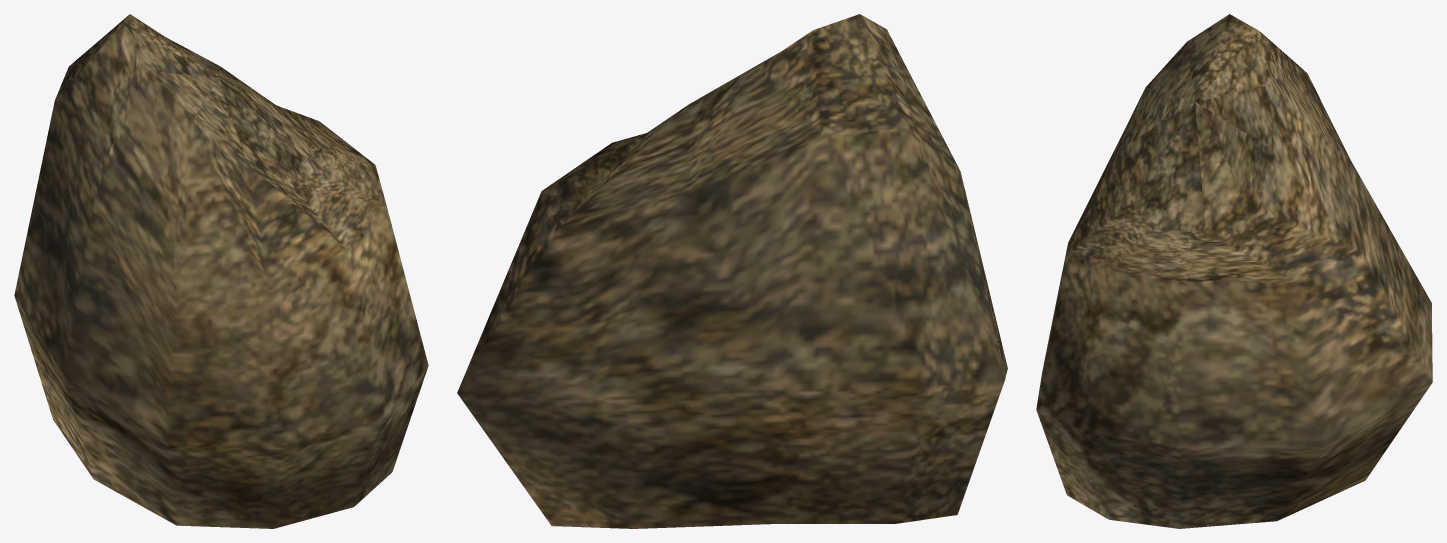
File: CH09_SMAUG_PLAYSURFACE_LONELYMOUNTAIN_LM_PLAYSURFACE15.fbx
3 renders of one model, left to right at view 1: azimuth 30°, elevation 25°; view 2: azimuth 150°, elevation 25°; view 3: azimuth 270°, elevation 25°, orthographic. The views are drawn at different scales.
Visible parts, largest first — view 1: CH09_SMAUG_PLAYSURFACE_LONELYMOUNTAIN_LM_PLAYSURFACE15; view 2: CH09_SMAUG_PLAYSURFACE_LONELYMOUNTAIN_LM_PLAYSURFACE15; view 3: CH09_SMAUG_PLAYSURFACE_LONELYMOUNTAIN_LM_PLAYSURFACE15.
Boxes of the visible parts, x1,y1,x2,y2 form: CH09_SMAUG_PLAYSURFACE_LONELYMOUNTAIN_LM_PLAYSURFACE15: (14, 14, 428, 528); CH09_SMAUG_PLAYSURFACE_LONELYMOUNTAIN_LM_PLAYSURFACE15: (457, 14, 1007, 528); CH09_SMAUG_PLAYSURFACE_LONELYMOUNTAIN_LM_PLAYSURFACE15: (1036, 14, 1432, 528).
Bounding box in the file's own units: 41548 × 49840 × 42638.
1 material, 1 textured.
